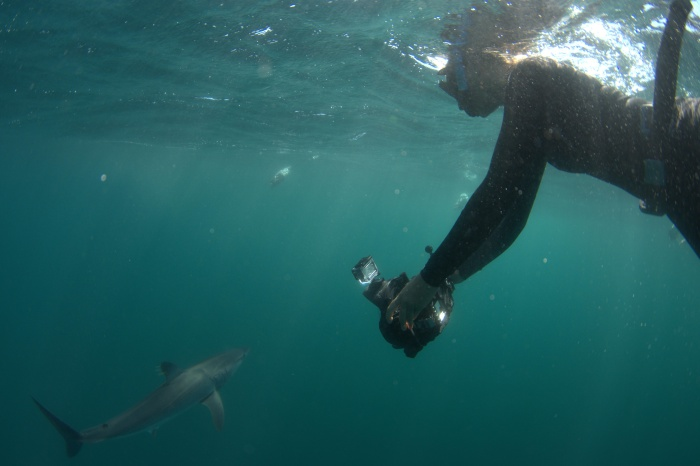Mako: (31, 332, 265, 466)
